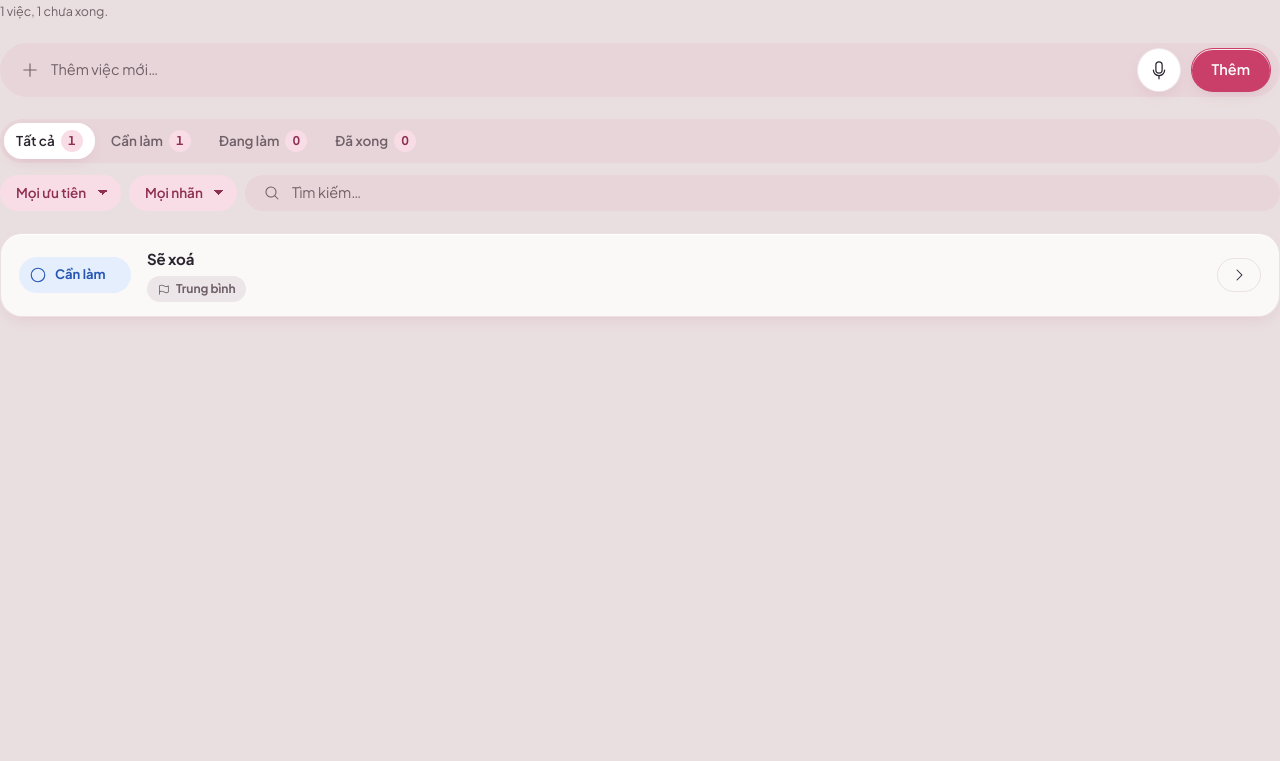
Test case: TaskDrawer › delete shows toast and "Hoàn tác" restores the task
Click the button "Sẽ xoá" at (171,258), box [147,248,1201,270]
(page scrolled)
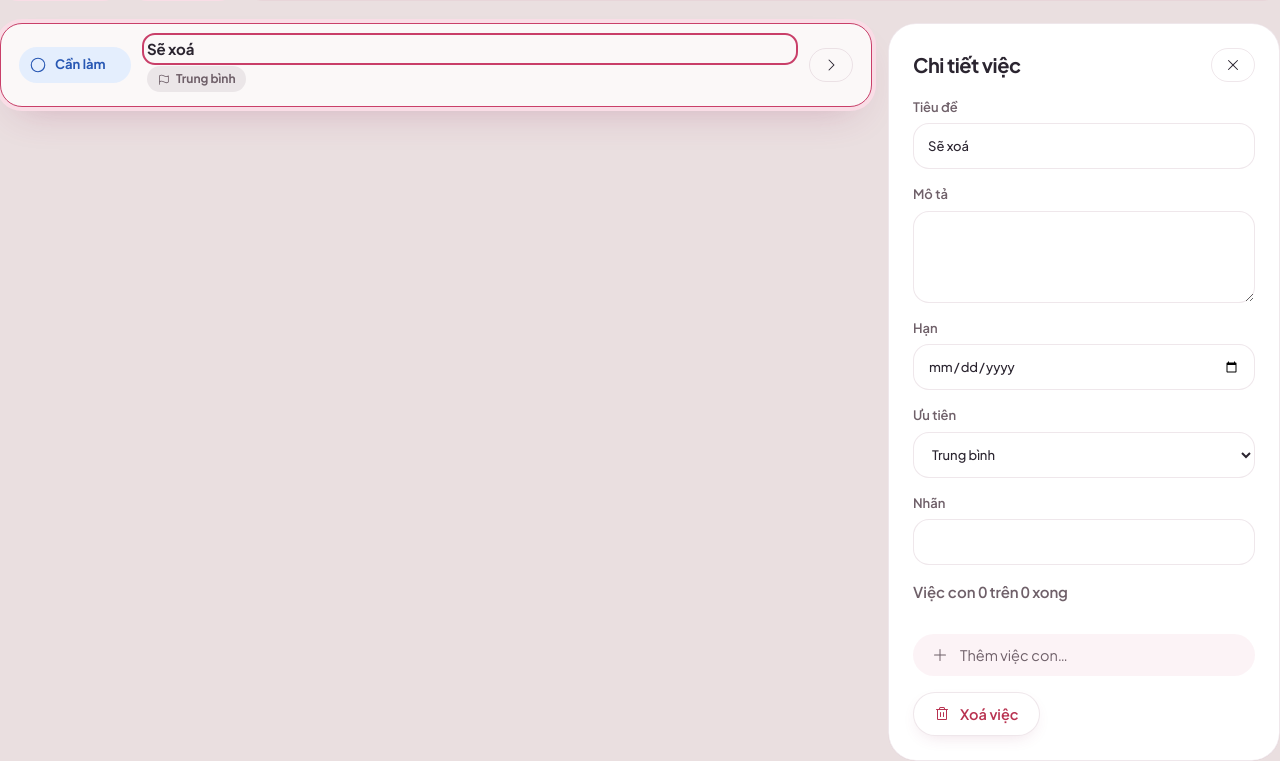
Click the button "Xoá việc" at (976,714), box [913,692,1040,736]
(page scrolled)
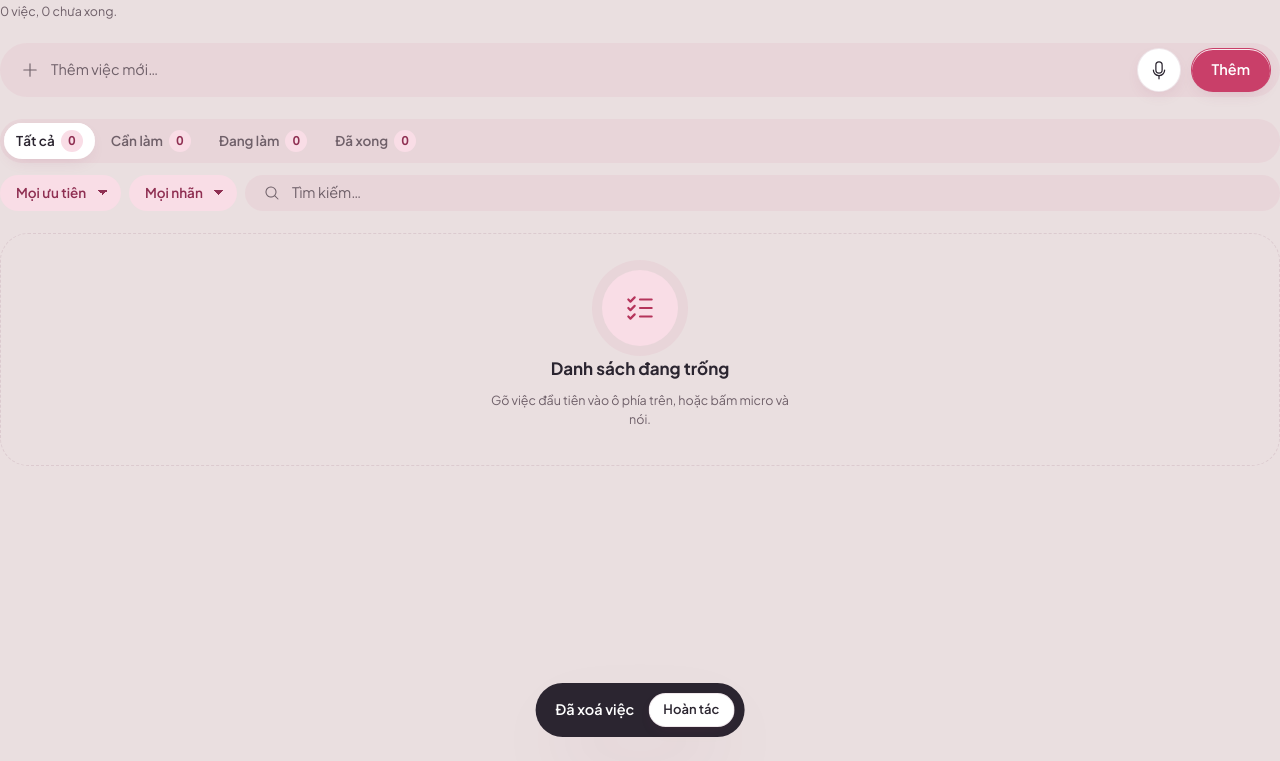
Expected: the button "Sẽ xoá" is gone
Click the button "Hoàn tác" at (691,710), box [648,693,734,727]
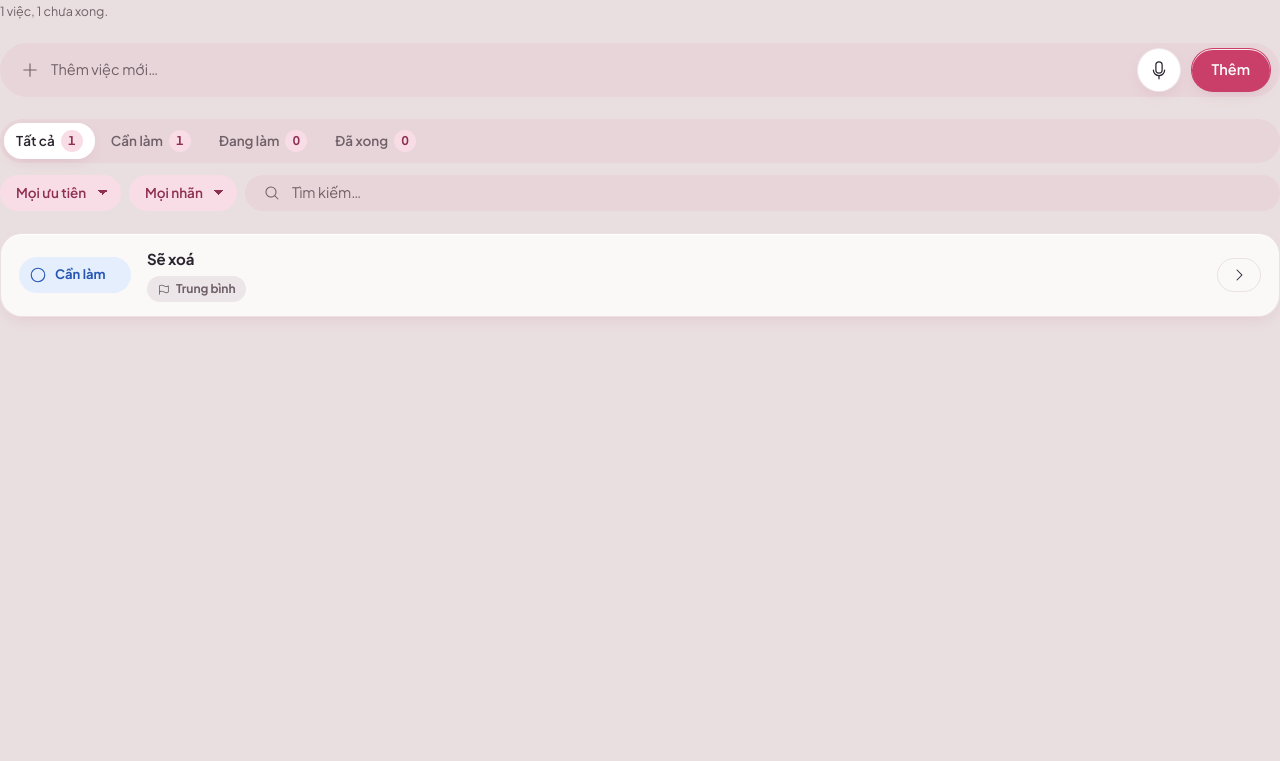
Expected: the button "Sẽ xoá" is shown, [147,248,1201,270]
